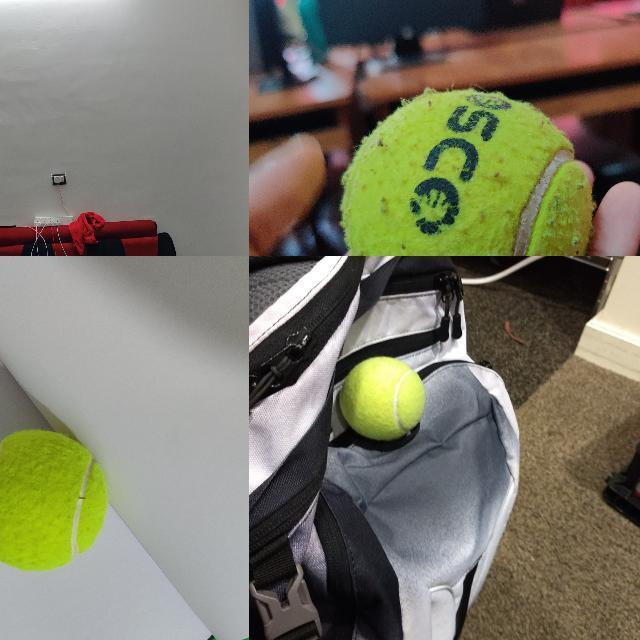tennis-ball: (340, 88, 592, 255), (0, 428, 109, 573), (339, 356, 425, 441)
